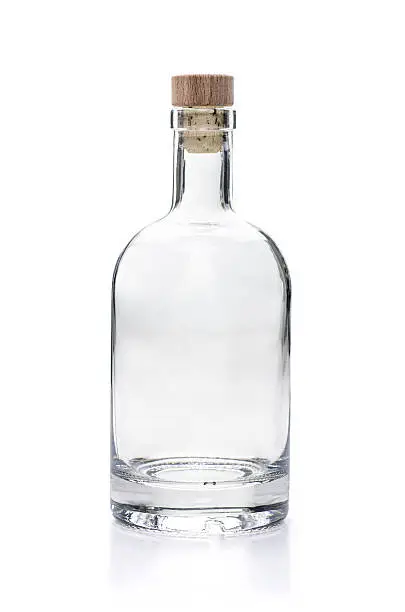glass_bottle: (98, 66, 301, 548)
